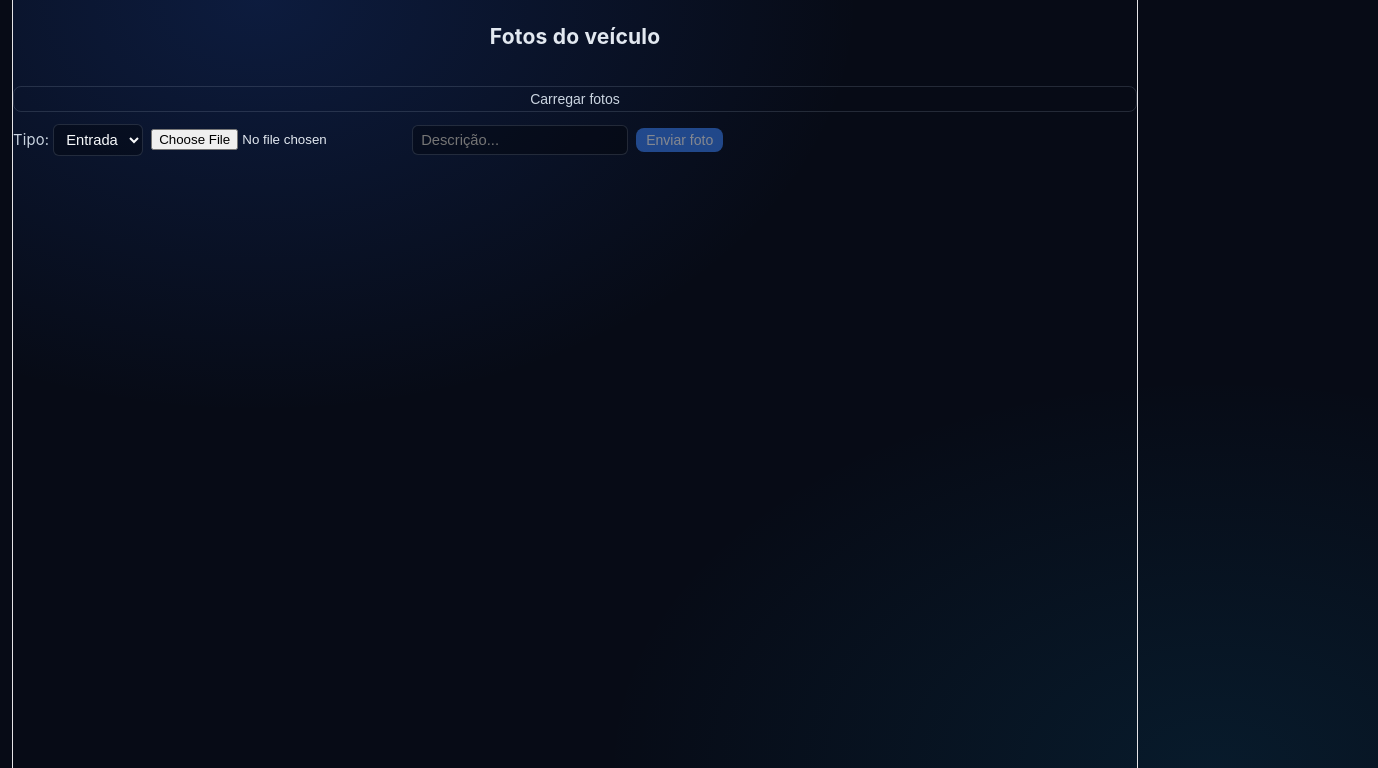
Test: PhotoGallery › loads photos when load button is clicked
What coordinates should you click on to do the following:
click the button "Carregar fotos"
I would click on:
 (575, 99)
Its box is left=13, top=86, right=1137, bottom=112.
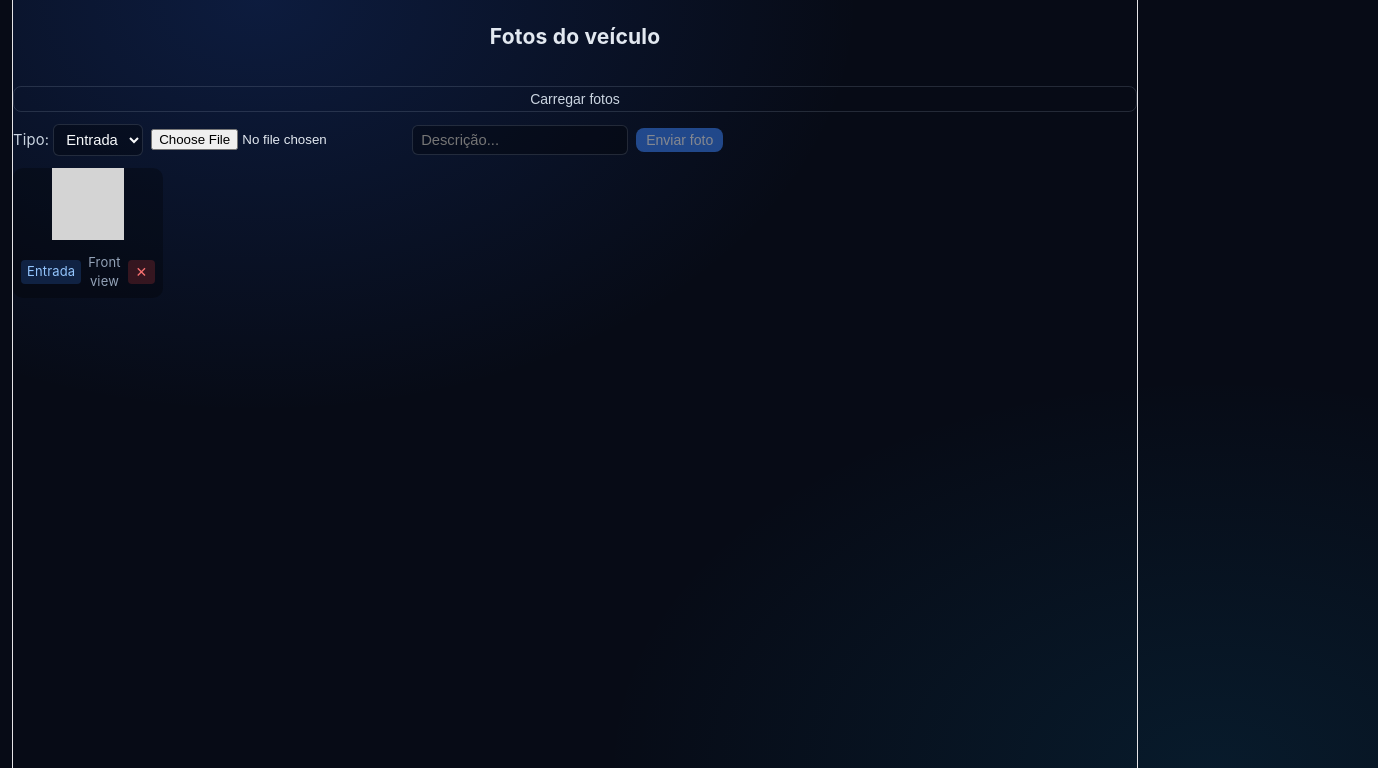
Now the text "Front view" is shown, box left=88, top=254, right=121, bottom=289
